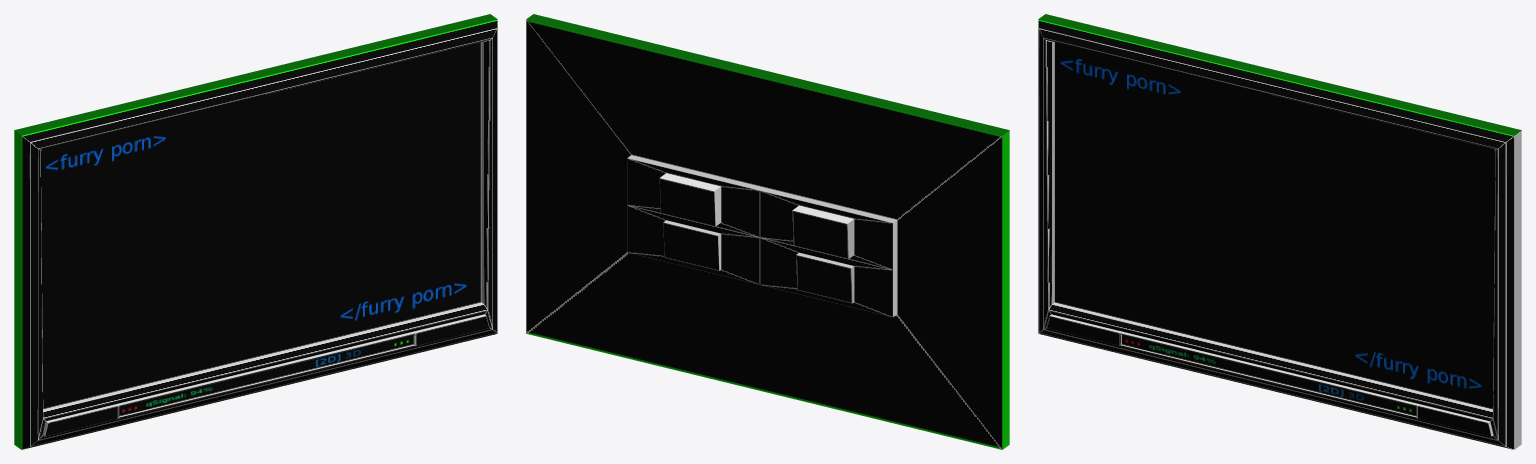
3 renders of one model, left to right at view 1: azimuth 30°, elevation 25°; view 2: azimuth 150°, elevation 25°; view 3: azimuth 330°, elevation 25°, orthographic.
Visible parts, largest first — view 1: Box001; view 2: Box001; view 3: Box001.
Boxes of the visible parts, left/top/right/bottom form: Box001: left=14, top=14, right=497, bottom=449; Box001: left=526, top=14, right=1009, bottom=449; Box001: left=1038, top=14, right=1521, bottom=449.
Bounding box in the file's own units: 95.92 × 8.95 × 60.51.
1 material, 1 textured.
